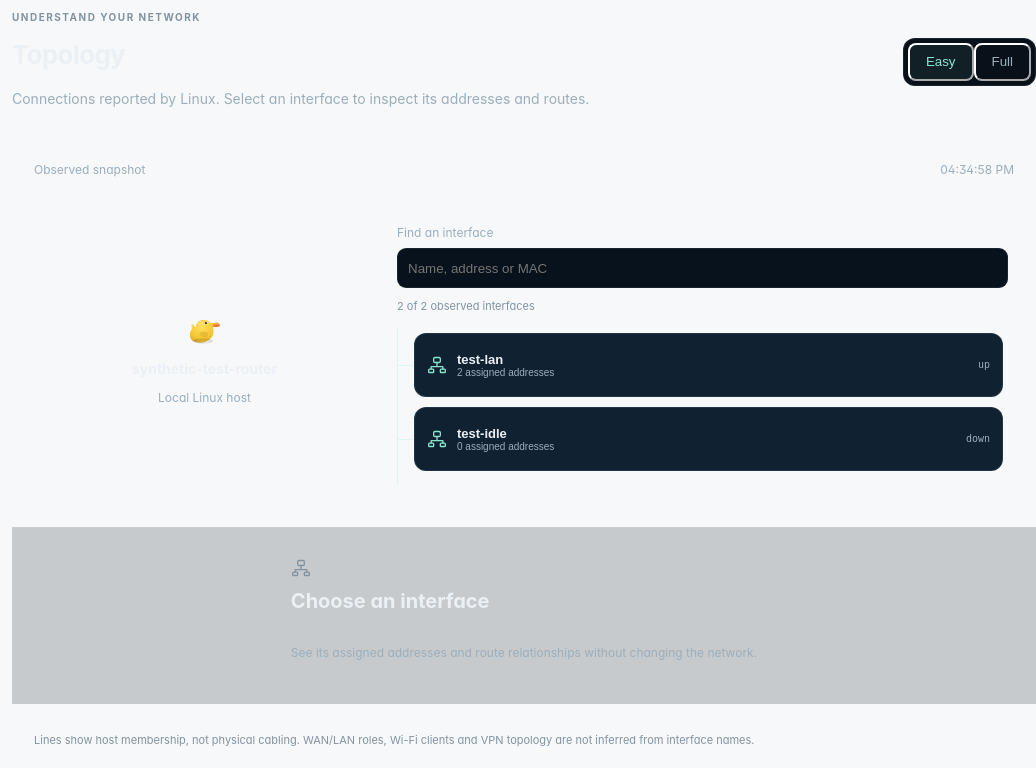
Test: filters observed objects without changing host data
This screenshot has width=1036, height=768.
In the search field labelled "Find an interface": (702, 268) [397,248,1008,288], type "2001:db8"
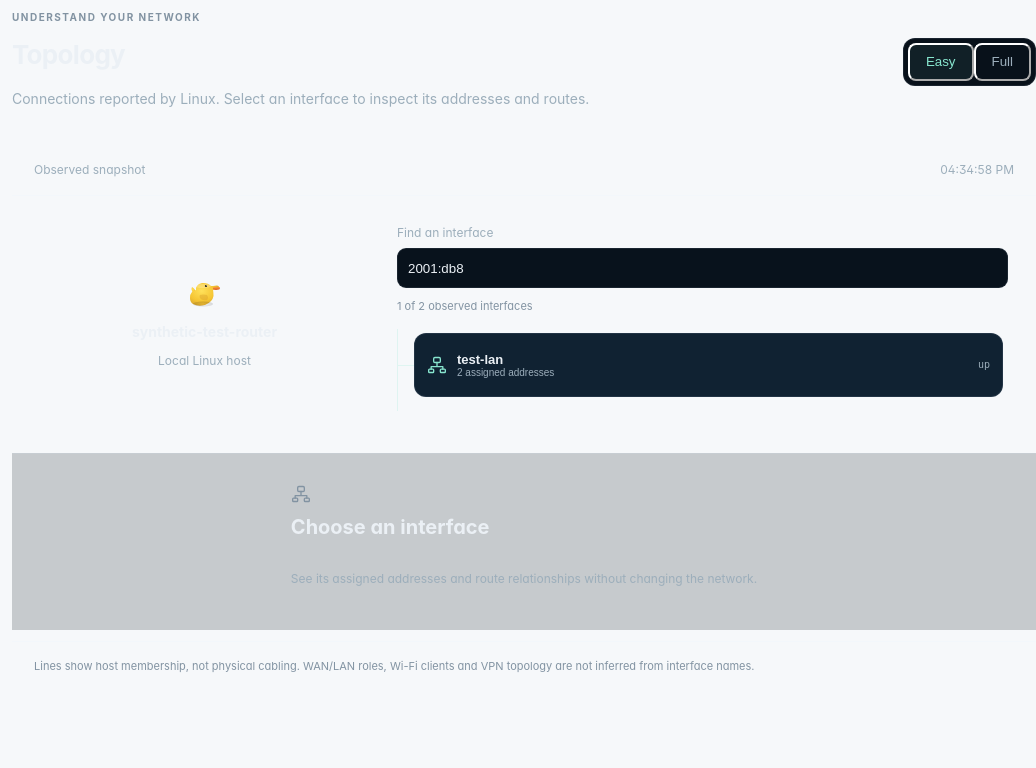
expect the text "1 of 2 observed interfaces" is shown: met, box [397,299,533,313]
